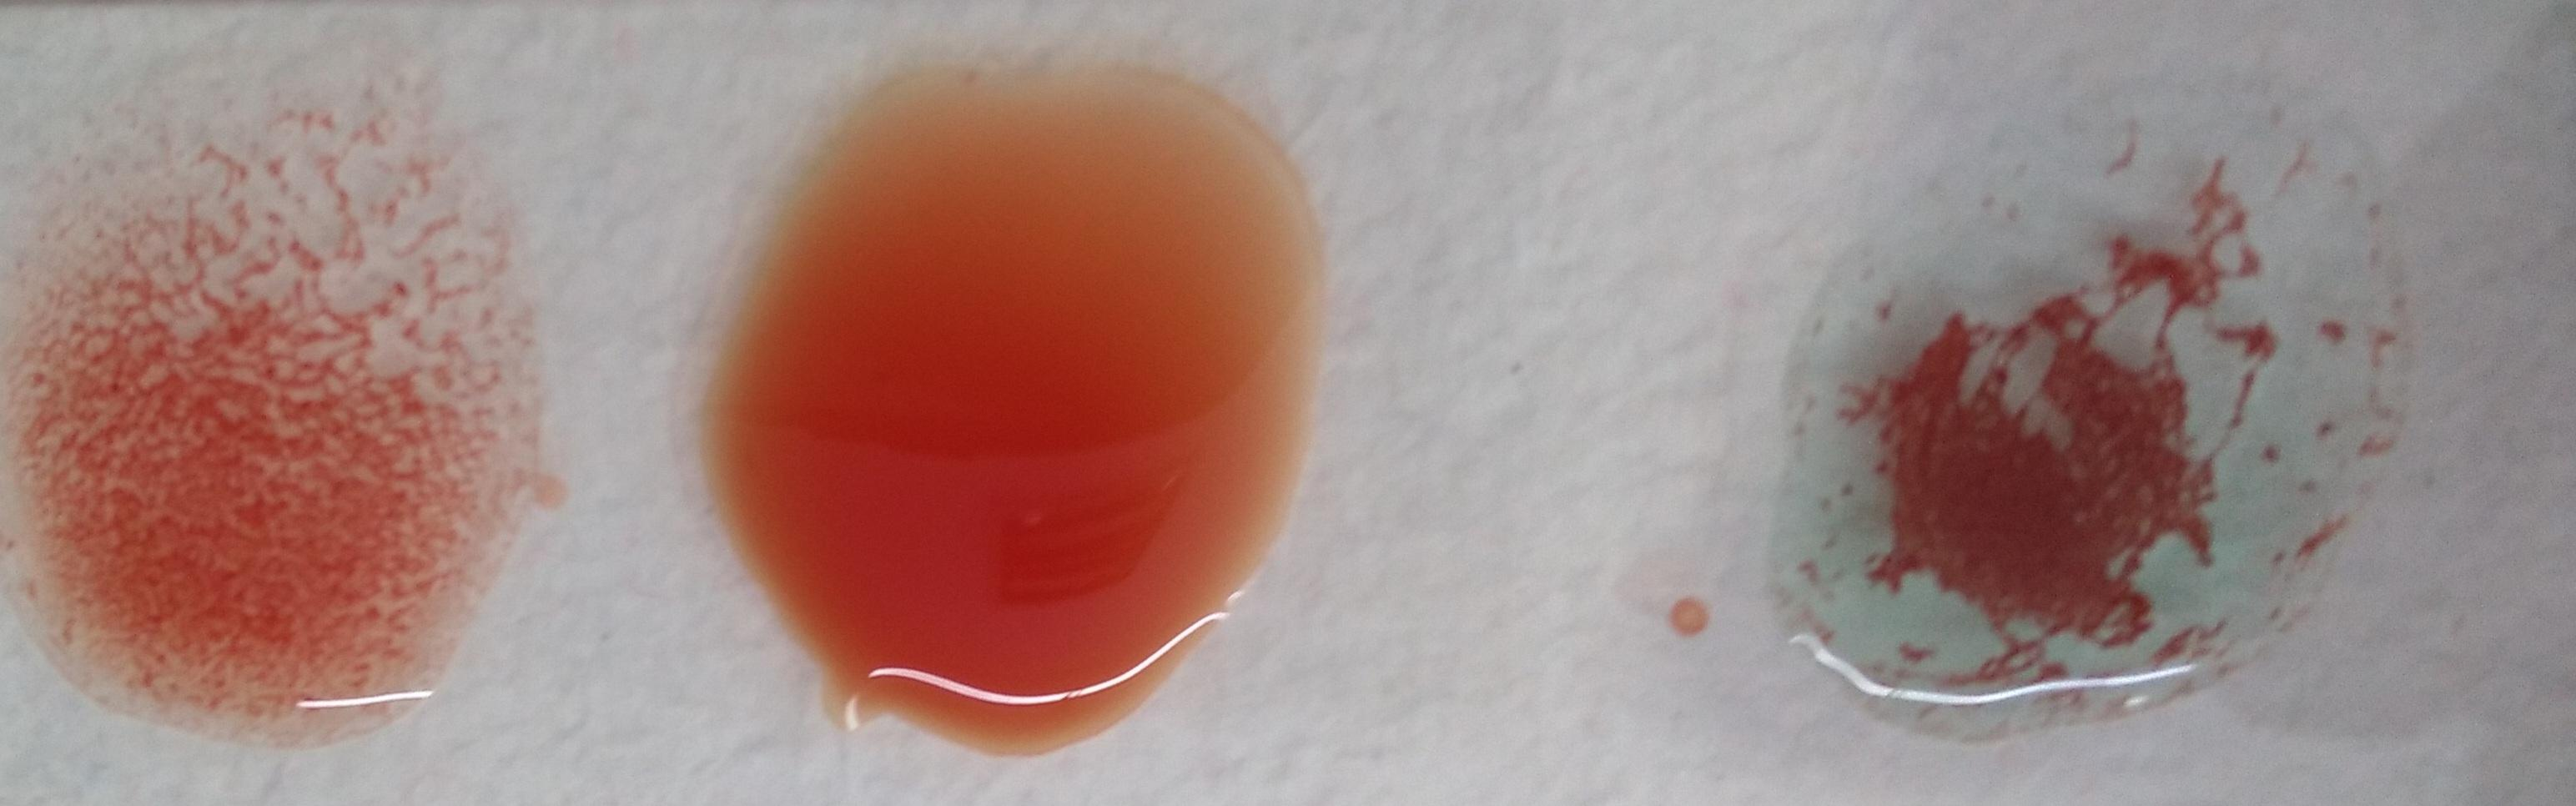A: (1774, 126, 2392, 724)
D: (15, 64, 534, 742)
